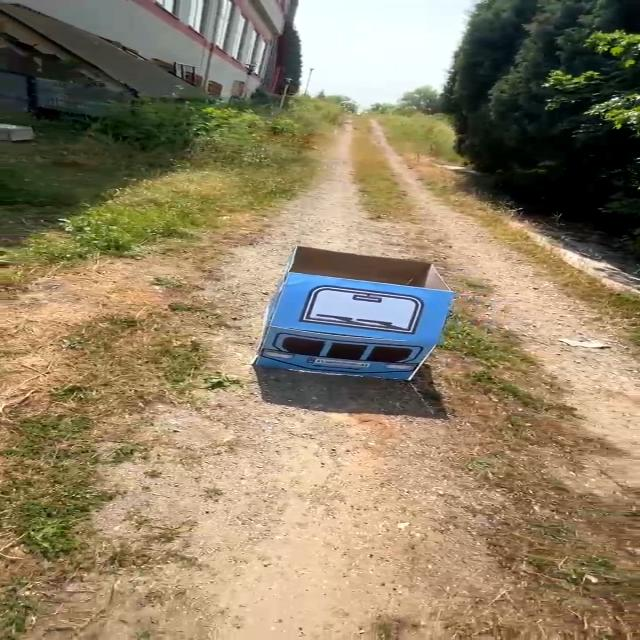blue_car: (235, 231, 468, 408)
